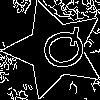Q: (30, 24, 91, 77)
